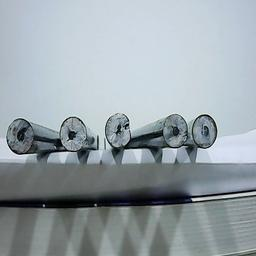pen: (7, 117, 32, 155), (191, 110, 216, 148), (162, 110, 187, 148), (105, 108, 130, 146), (60, 114, 85, 152)
